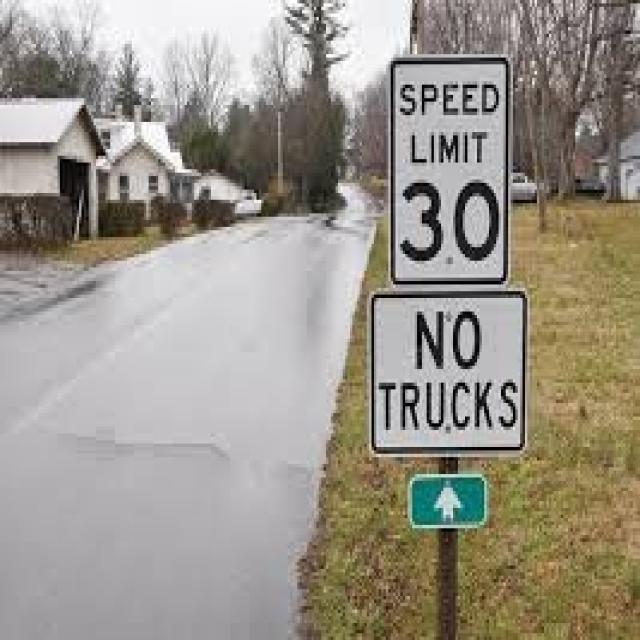speedLimit30: (390, 64, 506, 288)
